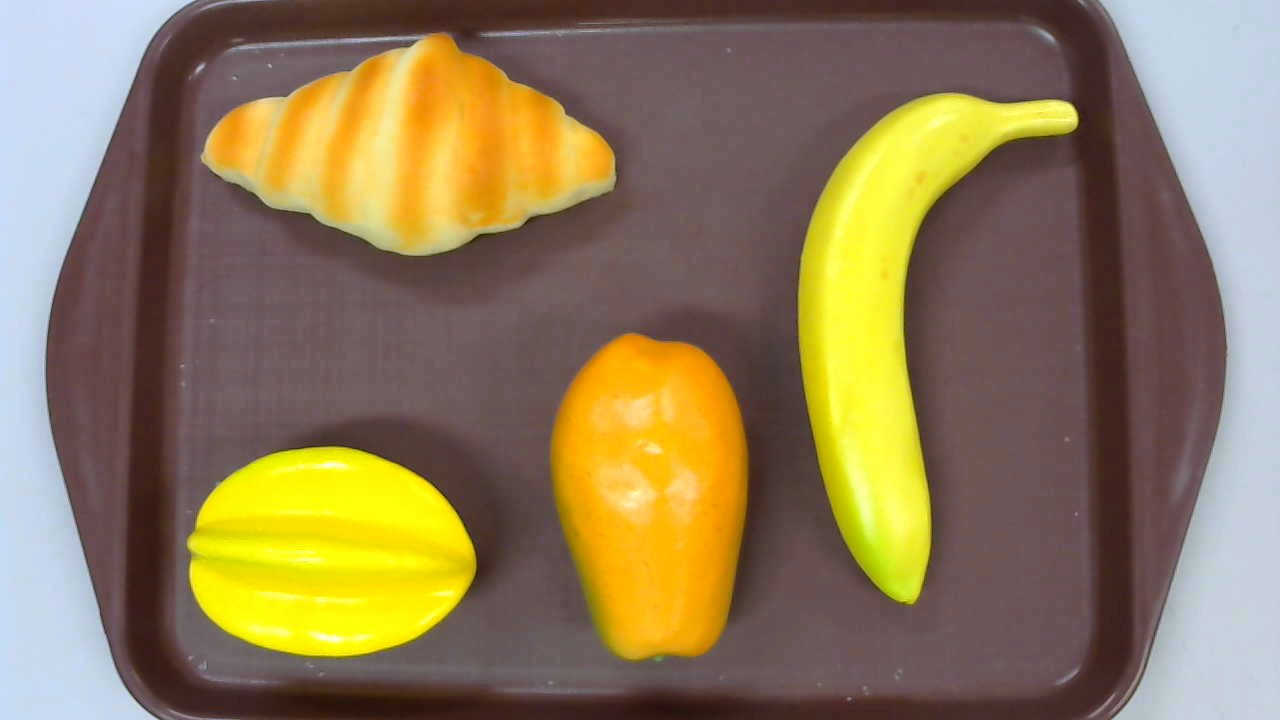banana: (795, 93, 1079, 608)
croissant: (196, 31, 618, 259)
papya: (550, 331, 749, 665)
star fruit: (186, 447, 476, 658)
